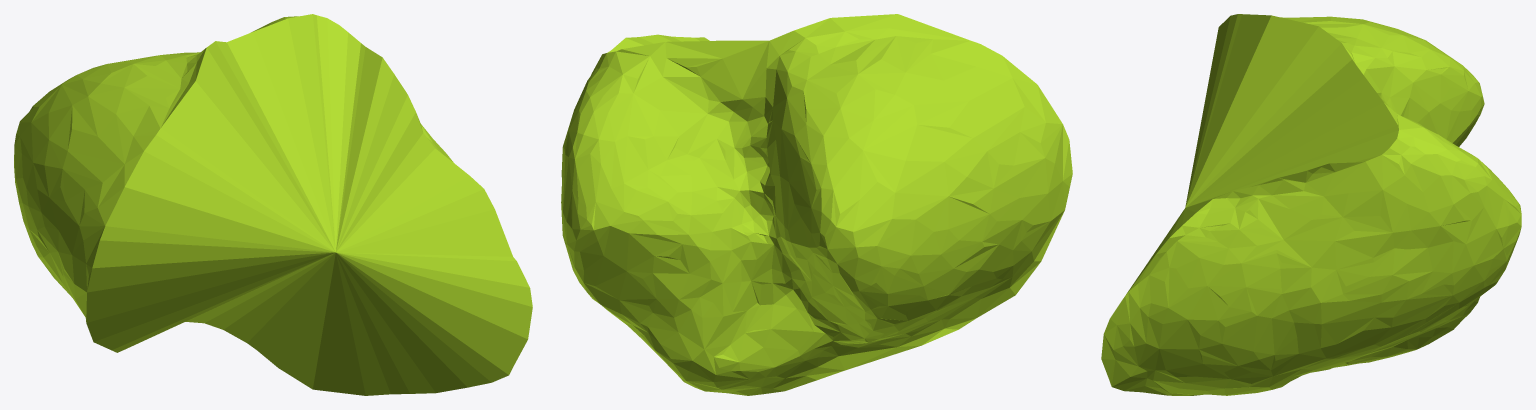
Rendered from Crown_24__Demo_Virtual_Patient.obj.
The picture shows the model from 3 angles, left to right: view 1: azimuth 30°, elevation 25°; view 2: azimuth 150°, elevation 25°; view 3: azimuth 270°, elevation 25°; orthographic projection. The views are drawn at different scales.
Bounding box in the file's own units: 9.34 × 7.89 × 9.5.
